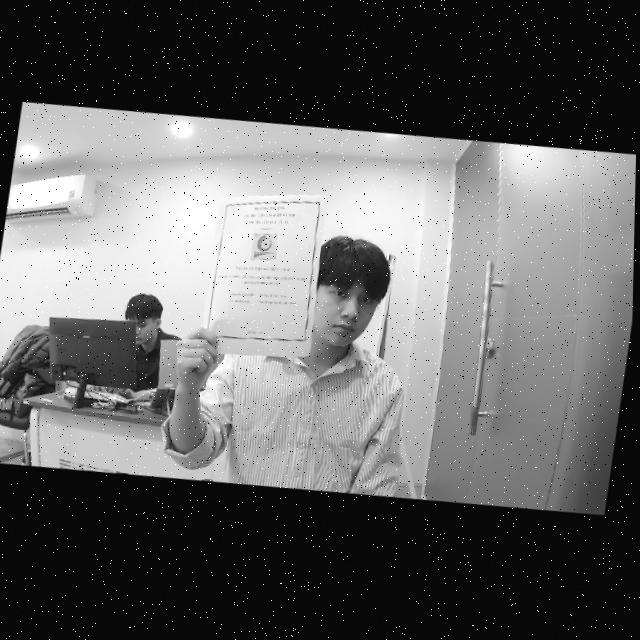document: (199, 194, 325, 357)
face: (312, 233, 388, 360)
